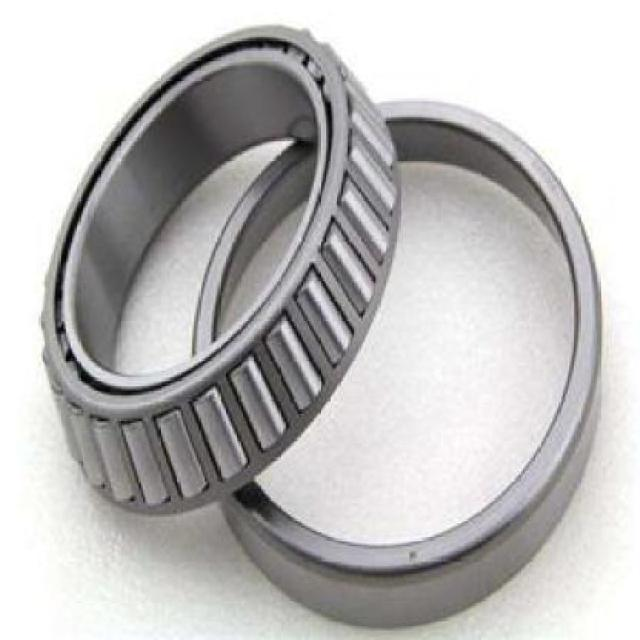Bearing: (33, 20, 402, 518)
